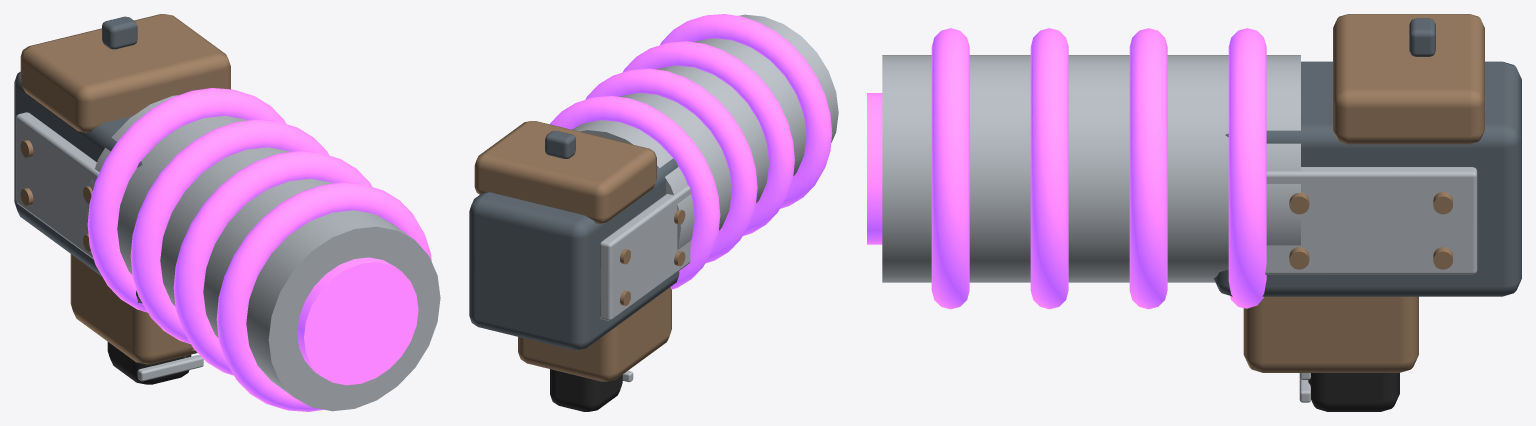
The model's file is arena-shooter-map-kit-plasma-gun-pickup-14276276__23143.glb.
3 views of the same model, side by side, from view 1: azimuth 30°, elevation 25°; view 2: azimuth 150°, elevation 25°; view 3: azimuth 270°, elevation 25° (orthographic). The views are drawn at different scales.
Visible parts, largest first — view 1: plasma-gun-pickup; view 2: plasma-gun-pickup; view 3: plasma-gun-pickup.
Part boxes in pixels (x1,y1,x2,y2): plasma-gun-pickup: (14,14,440,411); plasma-gun-pickup: (469,14,838,411); plasma-gun-pickup: (867,14,1521,411).
Size of the model in its own units: 0.37 by 0.55 by 0.8605.
